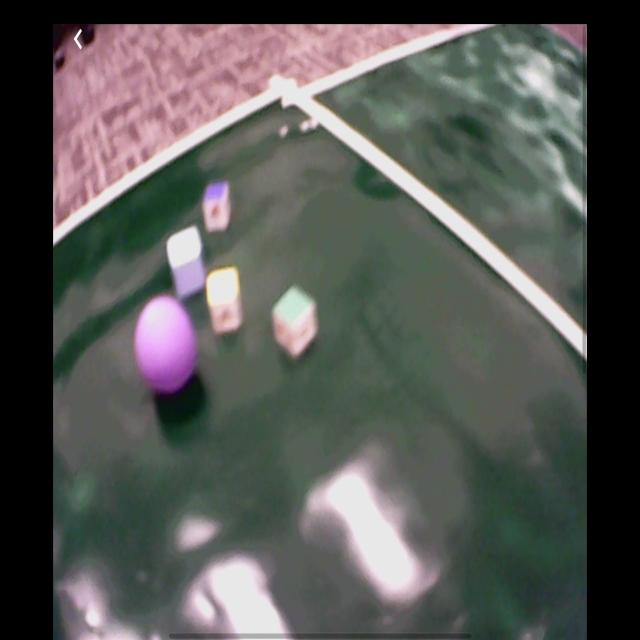ball: (136, 296, 198, 396)
